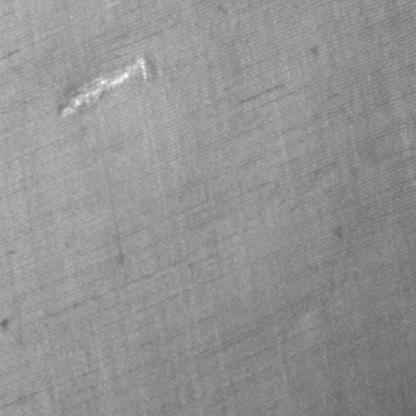hole: (55, 48, 151, 122)
